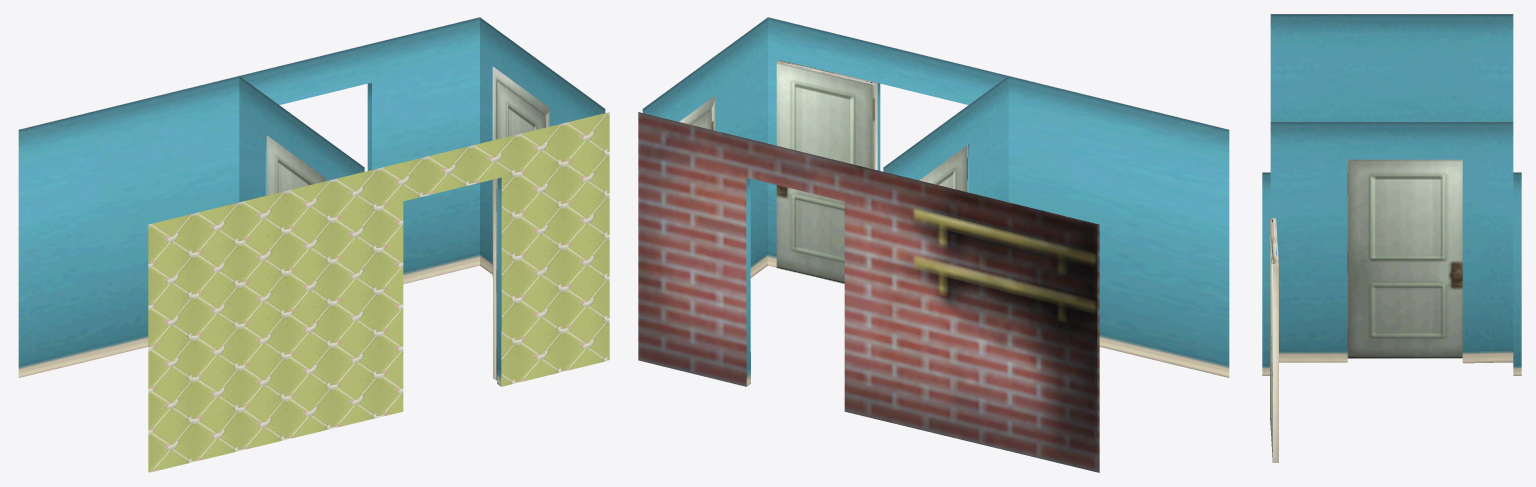
The model's file is PANTRY.glb.
3 views of the same model, side by side, from view 1: azimuth 30°, elevation 25°; view 2: azimuth 150°, elevation 25°; view 3: azimuth 270°, elevation 25° (orthographic). The views are drawn at different scales.
Parts seen in each view (by area): view 1: PANTRY; view 2: PANTRY; view 3: PANTRY.
Part boxes in pixels (bbox=[...]): PANTRY: bbox=[18, 17, 609, 472]; PANTRY: bbox=[638, 17, 1229, 472]; PANTRY: bbox=[1262, 14, 1521, 462].
Size of the model in its own units: 1200 by 620 by 603.
Materials: 6 (6 with a texture image).
